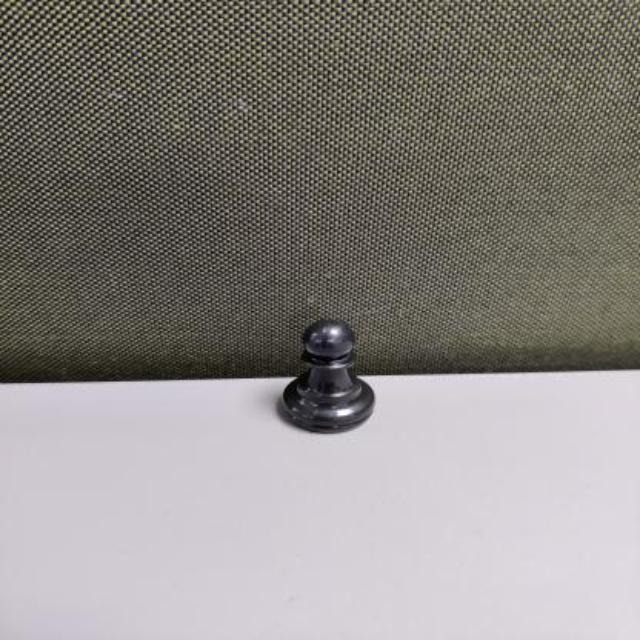black-pawn: (282, 318, 380, 433)
